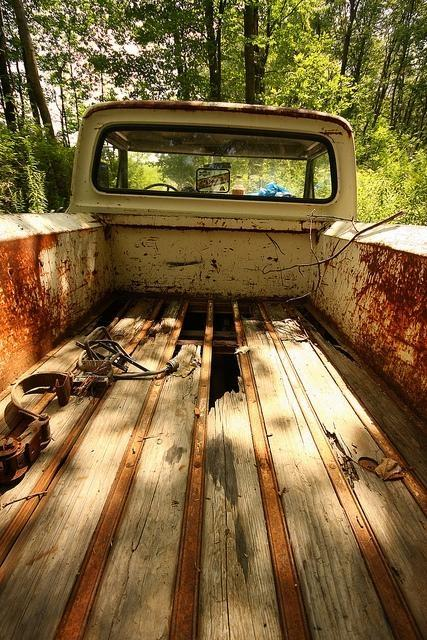truck: (0, 101, 427, 638)
